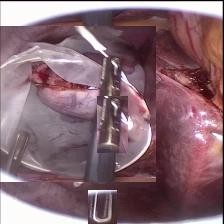Grasper: (97, 95, 128, 152), (2, 26, 32, 77), (88, 189, 117, 224)
Specimen Bag: (0, 25, 156, 181)
